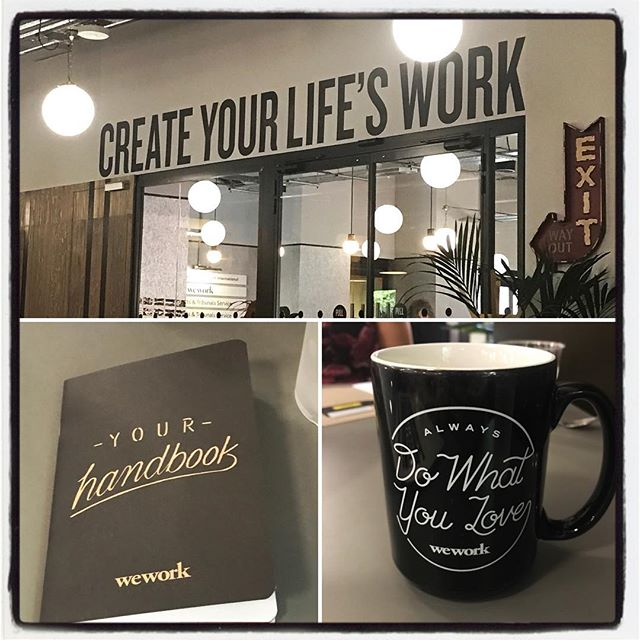wework: (112, 559, 193, 589), (428, 541, 492, 558)
